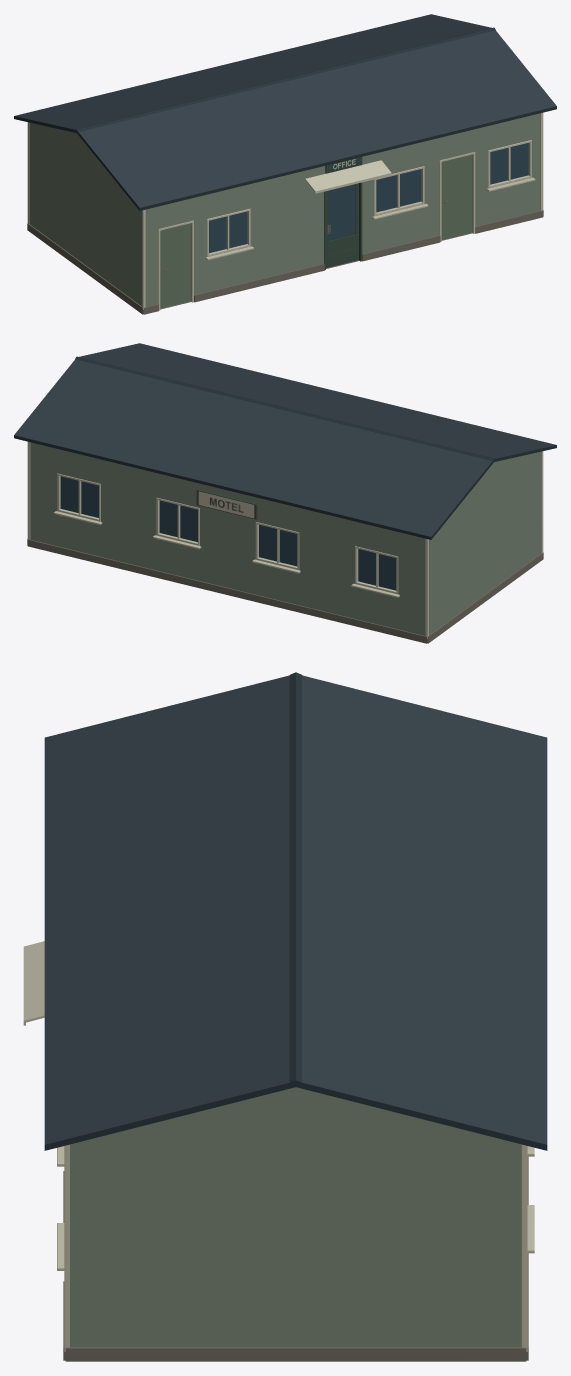
File: Motel_Exterior.fbx
3 views of the same model, one above another, from view 1: azimuth 30°, elevation 25°; view 2: azimuth 150°, elevation 25°; view 3: azimuth 270°, elevation 25° (orthographic). The views are drawn at different scales.
Parts seen in each view (by area): view 1: Roof, Building_Shell_Front, Building_Shell_Left, Foundation_Trim, Office_Entrance_Door, Guest_Room_1_Door, Guest_Room_2_Door, Office_Window, Guest_Window_Right, Guest_Window_Left, Roof_Ridge_Cap, Entrance_Rain_Cover (+4 smaller); view 2: Roof, Building_Shell_Rear, Building_Shell_Left, Foundation_Trim, Rear_Window_2, Rear_Window_3, Rear_Window_1, Rear_Window_4, Roof_Ridge_Cap, Architectural_Trim, Motel_Sign_Rear_Print; view 3: Roof, Building_Shell_Right, Foundation_Trim, Roof_Ridge_Cap, Architectural_Trim, Entrance_Rain_Cover, Building_Shell_Front, Building_Shell_Rear.
Boxes of the visible parts, bbox=[...] form: Roof: bbox=[14, 14, 556, 210]; Building_Shell_Front: bbox=[140, 113, 540, 306]; Building_Shell_Left: bbox=[31, 123, 140, 304]; Foundation_Trim: bbox=[27, 210, 543, 314]; Office_Entrance_Door: bbox=[326, 183, 358, 267]; Guest_Room_1_Door: bbox=[160, 223, 190, 308]; Guest_Room_2_Door: bbox=[441, 154, 471, 239]; Office_Window: bbox=[372, 166, 428, 219]; Guest_Window_Right: bbox=[486, 140, 535, 191]; Guest_Window_Left: bbox=[205, 208, 253, 260]; Roof_Ridge_Cap: bbox=[75, 27, 495, 132]; Entrance_Rain_Cover: bbox=[305, 160, 391, 193]; Roof: bbox=[14, 343, 556, 539]; Building_Shell_Rear: bbox=[30, 442, 430, 635]; Building_Shell_Left: bbox=[430, 452, 539, 633]; Foundation_Trim: bbox=[27, 539, 543, 643]; Rear_Window_2: bbox=[252, 522, 300, 573]; Rear_Window_3: bbox=[153, 497, 201, 549]; Rear_Window_1: bbox=[351, 546, 399, 597]; Rear_Window_4: bbox=[54, 473, 102, 524]; Roof_Ridge_Cap: bbox=[75, 356, 495, 461]; Architectural_Trim: bbox=[27, 441, 543, 638]; Motel_Sign_Rear_Print: bbox=[198, 491, 254, 518]; Roof: bbox=[44, 675, 547, 1150]; Building_Shell_Right: bbox=[78, 1087, 513, 1347]; Foundation_Trim: bbox=[63, 1156, 528, 1361]; Roof_Ridge_Cap: bbox=[289, 672, 302, 1083]; Architectural_Trim: bbox=[64, 1144, 527, 1351]; Entrance_Rain_Cover: bbox=[23, 941, 44, 1025]; Building_Shell_Front: bbox=[70, 1142, 77, 1347]; Building_Shell_Rear: bbox=[514, 1142, 521, 1347].
Size of the model in its own units: 11.52 by 3.82 by 6.25.
10 materials, 2 textured.
